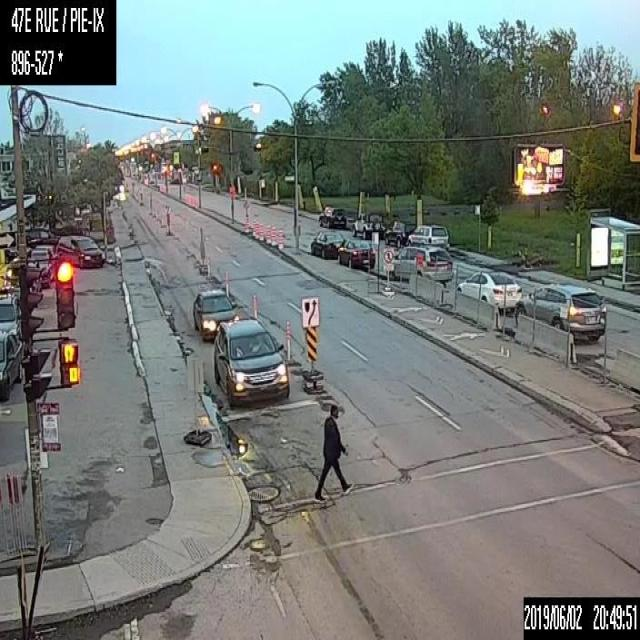construction: (285, 320, 290, 360), (271, 224, 276, 244), (253, 294, 257, 318), (258, 221, 263, 240), (265, 223, 270, 242), (254, 220, 259, 239), (278, 228, 283, 247), (206, 260, 210, 281), (252, 217, 256, 237), (244, 215, 248, 234), (225, 273, 228, 291)
pedestrian: (312, 402, 352, 502)
vehicle: (213, 318, 289, 407), (512, 283, 604, 343), (455, 270, 525, 316), (191, 288, 241, 340), (387, 244, 454, 282), (56, 235, 105, 268), (0, 333, 23, 399), (338, 237, 375, 270), (405, 222, 450, 249), (23, 247, 54, 286), (351, 210, 387, 239), (310, 228, 345, 256), (0, 296, 22, 336), (384, 220, 416, 244), (318, 204, 345, 228), (25, 226, 57, 243), (34, 244, 56, 266), (0, 263, 20, 285)
